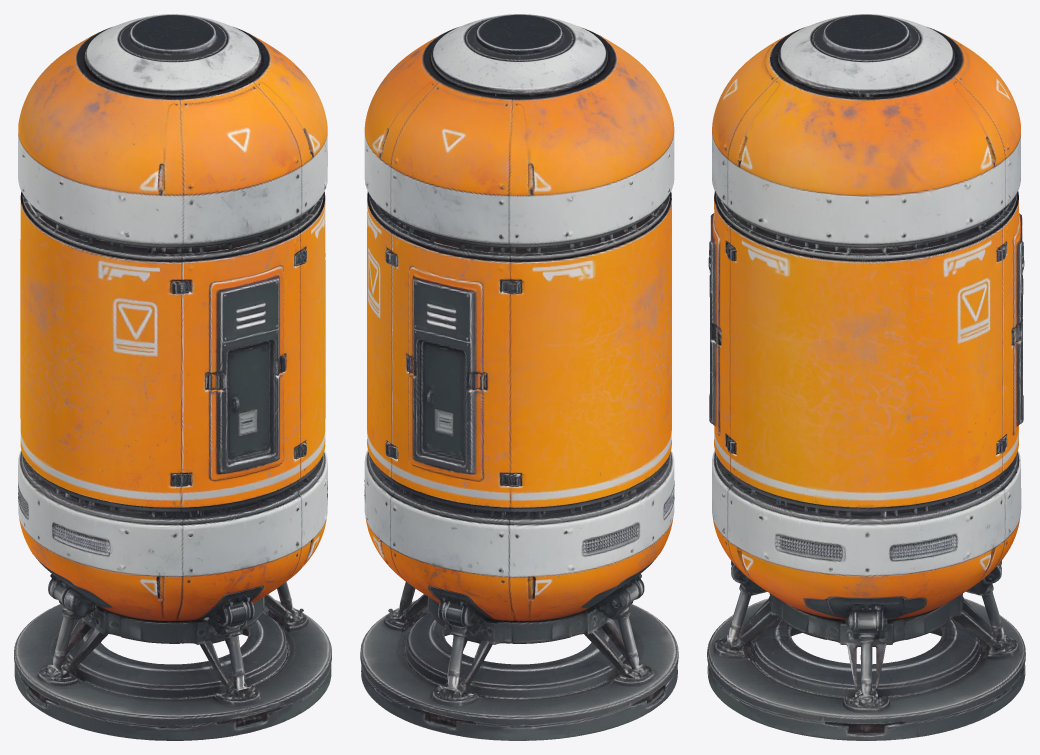
File: 胶囊仓库-亢知行.glb
3 renders of one model, left to right at view 1: azimuth 30°, elevation 25°; view 2: azimuth 150°, elevation 25°; view 3: azimuth 270°, elevation 25°, orthographic.
Bounding box in the file's own units: 0.8545 × 1.9 × 0.855.
1 material, 1 textured.
